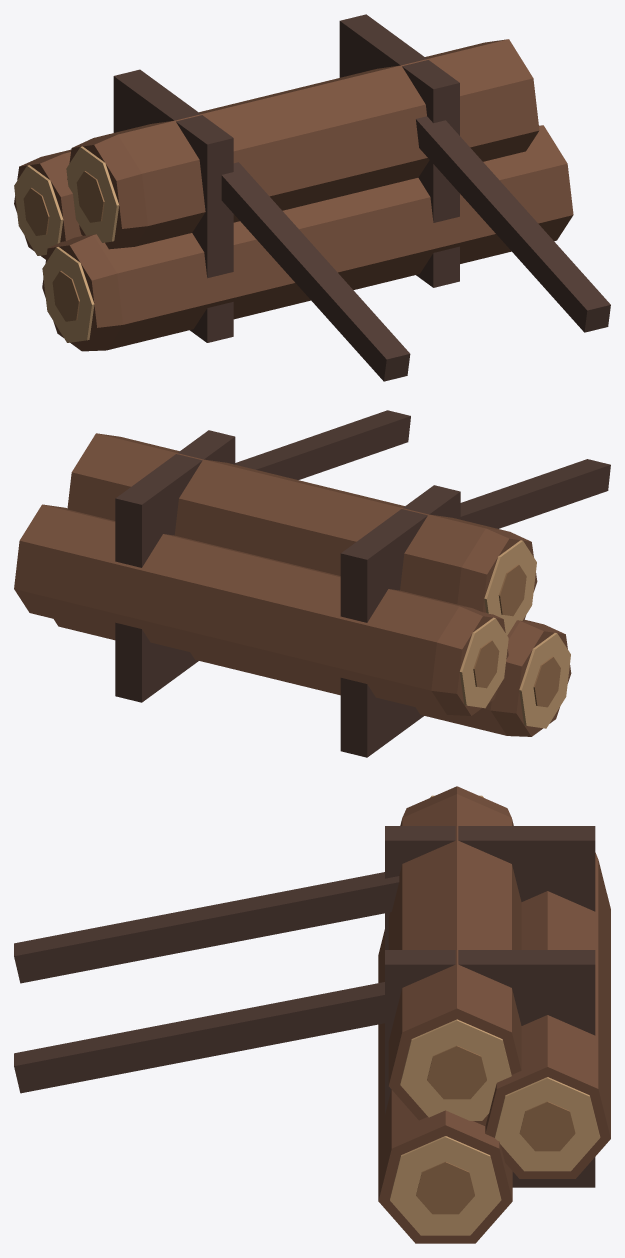
File: Survact-carga-madera-v01.glb
3 views of the same model, one above another, from view 1: azimuth 30°, elevation 25°; view 2: azimuth 150°, elevation 25°; view 3: azimuth 270°, elevation 25° (orthographic). The views are drawn at different scales.
Parts seen in each view (by area): view 1: WoodLoad; view 2: WoodLoad; view 3: WoodLoad.
Boxes of the visible parts, x1=… form: WoodLoad: x1=14, y1=14, x2=610, y2=381; WoodLoad: x1=14, y1=410, x2=610, y2=757; WoodLoad: x1=14, y1=786, x2=610, y2=1243.
Bounding box in the file's own units: 0.49 × 0.1935 × 0.4682.
